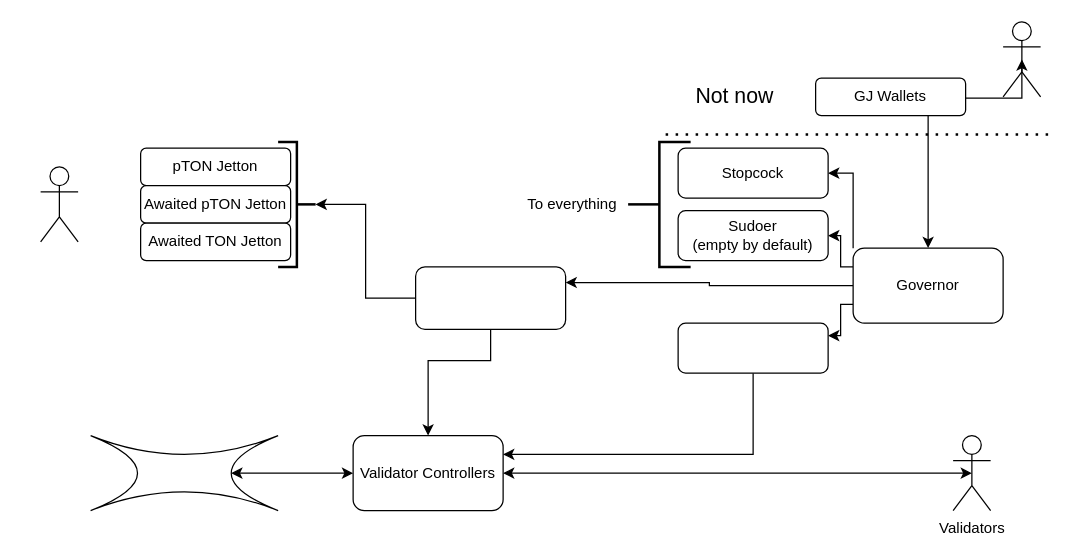
The diagram is 1079 pixels wide and 559 high, and some of its shapes have lost their labels. The box of each missing label's shape, as (x1, y1, x2, y2) in pixels:
Approver: (677, 322, 828, 373)
Elector: (89, 434, 278, 511)
Governers: (1002, 21, 1041, 97)
Nominators: (39, 166, 78, 242)
Pool: (414, 266, 566, 329)
